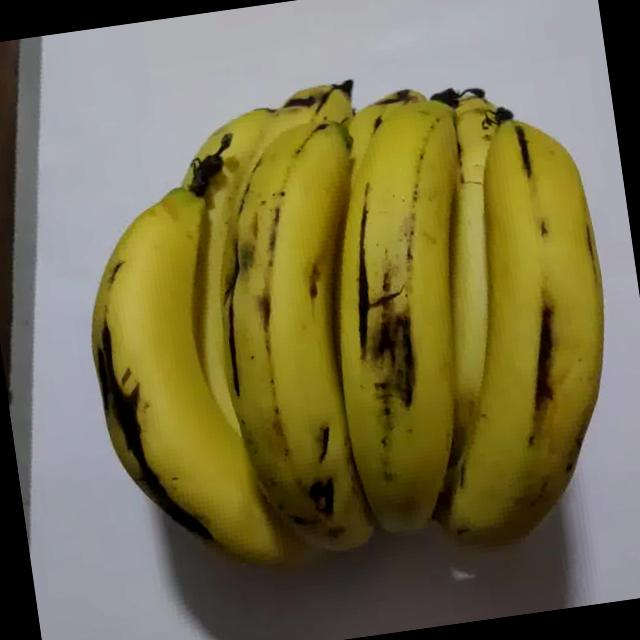banana_pacche: (0, 7, 589, 640)
